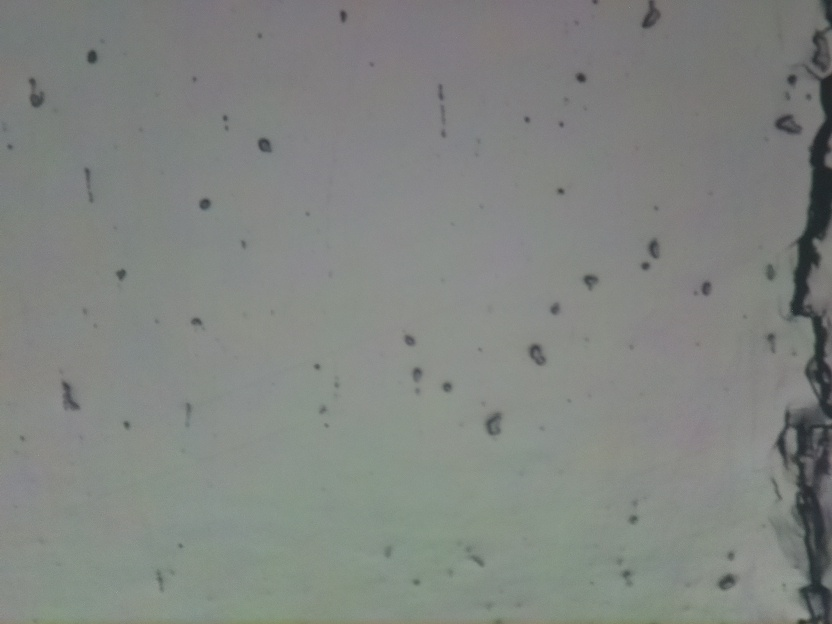crack: (777, 0, 832, 624)
